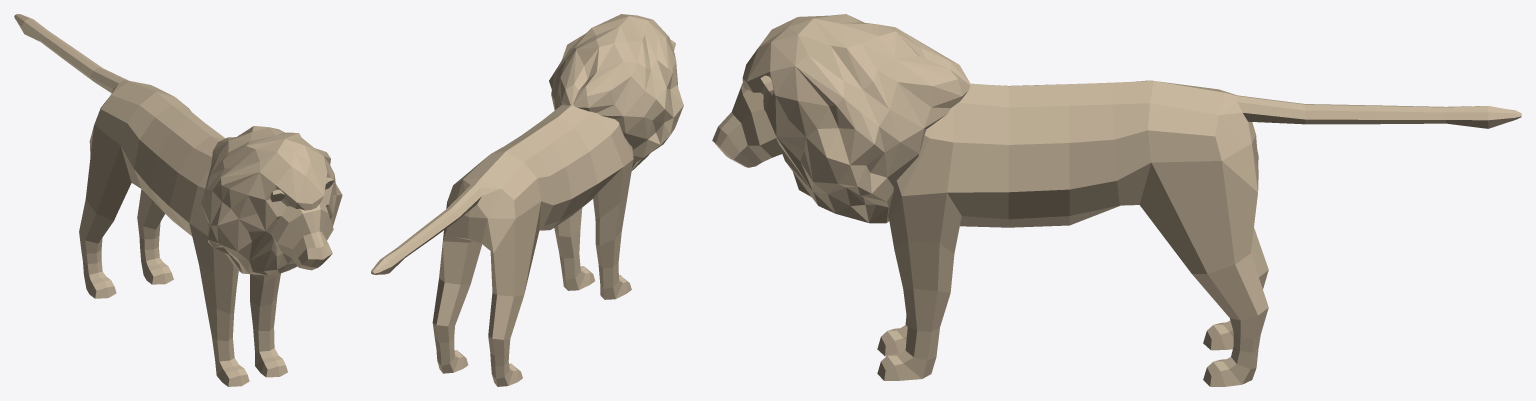
The model's file is suanni.glb.
The picture shows the model from 3 angles, left to right: view 1: azimuth 30°, elevation 25°; view 2: azimuth 150°, elevation 25°; view 3: azimuth 270°, elevation 25°; orthographic projection. The views are drawn at different scales.
Visible parts, largest first — view 1: Lion_mesh; view 2: Lion_mesh; view 3: Lion_mesh.
Part boxes in pixels (<box>): Lion_mesh: <box>14,14,342,386</box>; Lion_mesh: <box>371,14,683,386</box>; Lion_mesh: <box>712,14,1521,386</box>.
Bounding box in the file's own units: 3.4 × 6.76 × 14.46.
